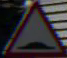Speed Breaker ahead: (16, 3, 53, 54)
